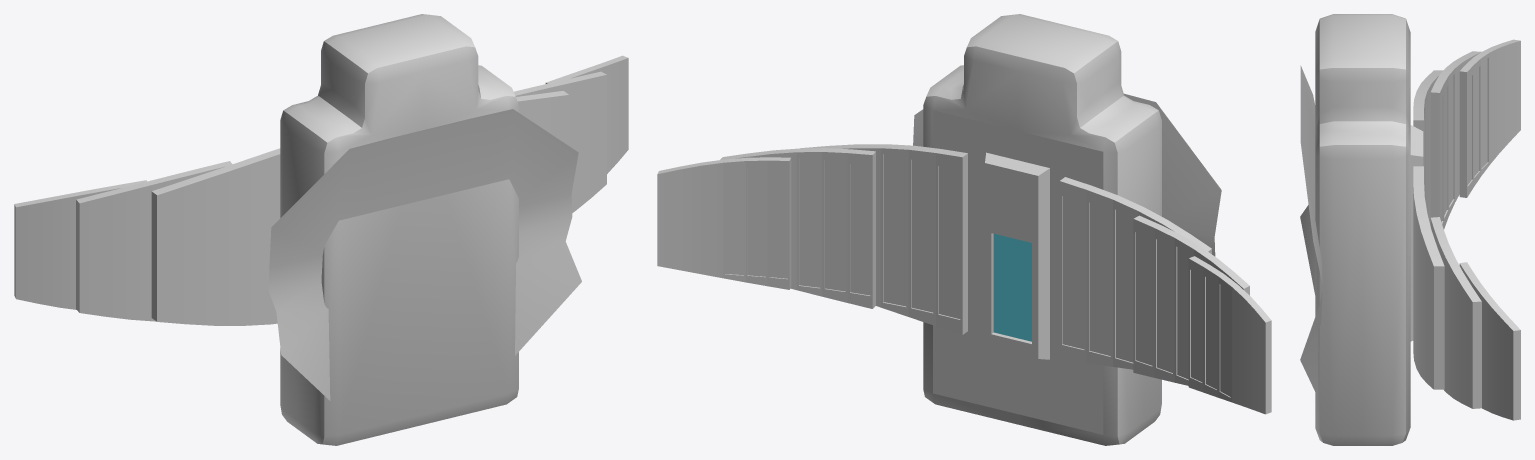
File: Mod_BackPlate_Mirage2.fbx
3 views of the same model, side by side, from view 1: azimuth 30°, elevation 25°; view 2: azimuth 150°, elevation 25°; view 3: azimuth 270°, elevation 25° (orthographic). The views are drawn at different scales.
Visible parts, largest first — view 1: Mod_BackPlate_Mirage2; view 2: Mod_BackPlate_Mirage2; view 3: Mod_BackPlate_Mirage2.
Boxes of the visible parts, x1,y1,x2,y2 form: Mod_BackPlate_Mirage2: (14,14,628,445); Mod_BackPlate_Mirage2: (657,14,1271,445); Mod_BackPlate_Mirage2: (1300,14,1520,445).
Bounding box in the file's own units: 650 × 382 × 208.
